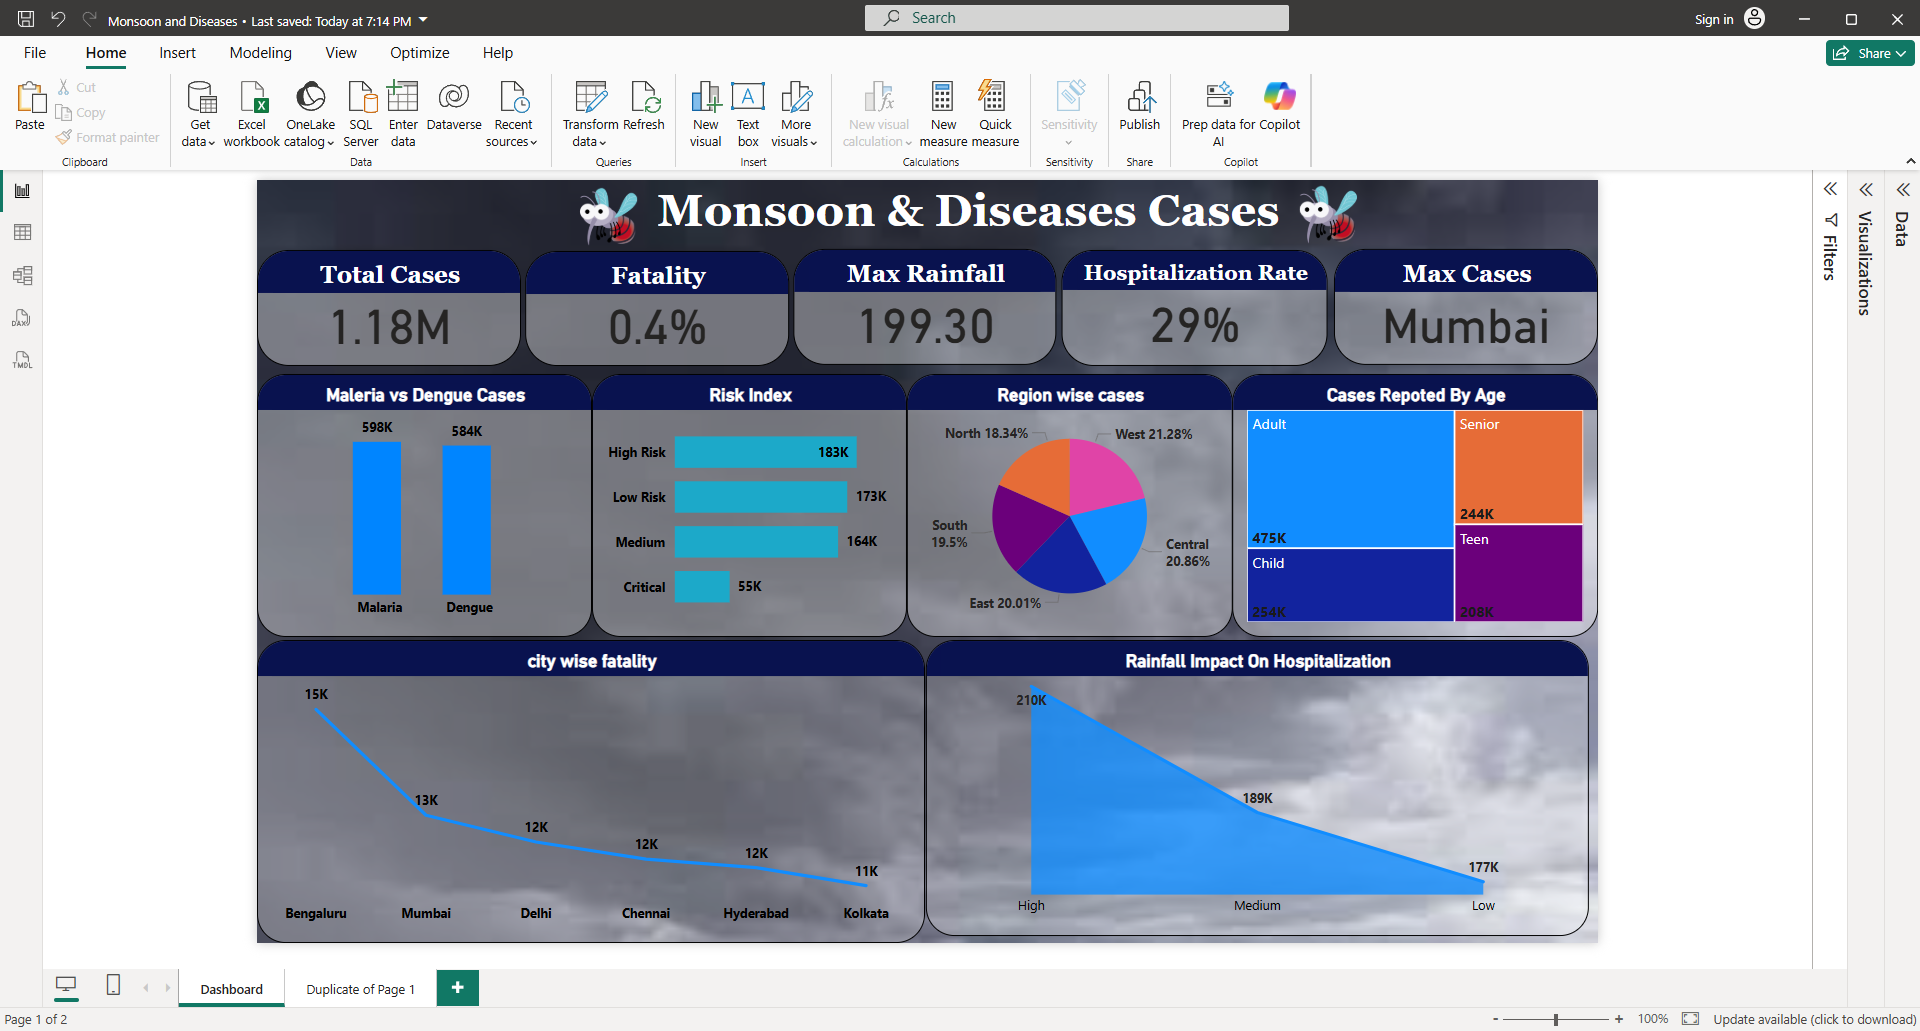

The page's visual inventory and layout, read from the dashboard file:
{"tool":"powerbi","page":{"name":"Dashboard","canvas":[1265,720],"ordinal":0},"visuals":[{"type":"textbox","box":[350.6,0,640.8,80.5],"z":0},{"type":"card","title":"Total Cases","fields":{"Values":["Sum(Monsoon & Diseases Cases.Cases_Reported)"]},"box":[0,65.9,248.9,109.1],"z":1000},{"type":"card","title":"Hospitalization Rate","fields":{"Values":["Monsoon & Diseases Cases.Hospitalization Rate"]},"box":[759,65.9,251.1,109.1],"z":2000},{"type":"card","title":"Max Cases","fields":{"Values":["Min(Monsoon & Diseases Cases.City)"]},"box":[1015.9,64.8,248.9,109.1],"z":3000},{"type":"card","title":"Max Rainfall","fields":{"Values":["Max(Monsoon & Diseases Cases.Rainfall_mm)"]},"box":[506,64.8,248,109],"z":4000},{"type":"card","title":"Fatality","fields":{"Values":["Monsoon & Diseases Cases.Total Fatality"]},"box":[253,67,248.9,108],"z":5000},{"type":"clusteredColumnChart","title":"Maleria vs Dengue Cases","fields":{"Category":["Monsoon & Diseases Cases.Disease_Type"],"Y":["Sum(Monsoon & Diseases Cases.Cases_Reported)"]},"box":[0,183,315.9,247.7],"z":6000},{"type":"treemap","title":"Cases Repoted By Age","fields":{"Group":["Monsoon & Diseases Cases.Age"],"Values":["Sum(Monsoon & Diseases Cases.Cases_Reported)"]},"box":[920.5,183,344.3,247.7],"z":7000},{"type":"lineChart","title":"city wise fatality","fields":{"Category":["Monsoon & Diseases Cases.City"],"Y":["Sum(Monsoon & Diseases Cases.Deaths)"]},"box":[0,434.1,629.5,286.4],"z":8000},{"type":"pieChart","title":"Region wise cases","fields":{"Y":["Sum(Monsoon & Diseases Cases.Cases_Reported)"],"Category":["Monsoon & Diseases Cases.Region"]},"box":[612.5,183,308,247.7],"z":9000},{"type":"clusteredBarChart","title":"Risk Index","fields":{"Category":["Monsoon & Diseases Cases.Risk Factor"],"Y":["Sum(Monsoon & Diseases Cases.Hospitalizations)"]},"box":[315.9,183,296.6,247.7],"z":10000},{"type":"image","box":[947.7,0,125,64.8],"z":12000},{"type":"image","box":[269.3,2.3,125,64.8],"z":13000},{"type":"areaChart","title":"Rainfall Impact On Hospitalization","fields":{"Y":["Sum(Monsoon & Diseases Cases.Hospitalizations)"],"Category":["Monsoon & Diseases Cases.Rainfall_Impact"]},"box":[630.7,434.1,625,278.4],"z":13001}]}

Visuals, with their boxes on the page's 1265x720 design canvas (x1, y1, x2, y2). These are canvas units, not pixel positions in the 1920x1031 screenshot, which may show the page scaled, cropped or inside an application window:
textbox: bbox=[351, 0, 991, 80]
"Total Cases" card: bbox=[0, 66, 249, 175]
"Hospitalization Rate" card: bbox=[759, 66, 1010, 175]
"Max Cases" card: bbox=[1016, 65, 1265, 174]
"Max Rainfall" card: bbox=[506, 65, 754, 174]
"Fatality" card: bbox=[253, 67, 502, 175]
"Maleria vs Dengue Cases" clusteredColumnChart: bbox=[0, 183, 316, 431]
"Cases Repoted By Age" treemap: bbox=[920, 183, 1265, 431]
"city wise fatality" lineChart: bbox=[0, 434, 630, 720]
"Region wise cases" pieChart: bbox=[612, 183, 920, 431]
"Risk Index" clusteredBarChart: bbox=[316, 183, 612, 431]
image: bbox=[948, 0, 1073, 65]
image: bbox=[269, 2, 394, 67]
"Rainfall Impact On Hospitalization" areaChart: bbox=[631, 434, 1256, 712]
